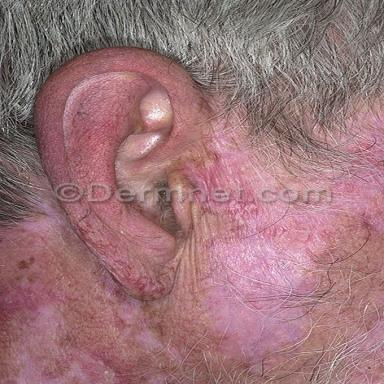Lupus-Erythematosus-Chronicus-Discoides: (197, 124, 384, 377), (0, 225, 161, 384), (177, 119, 329, 187), (71, 216, 169, 302), (91, 264, 162, 350)
